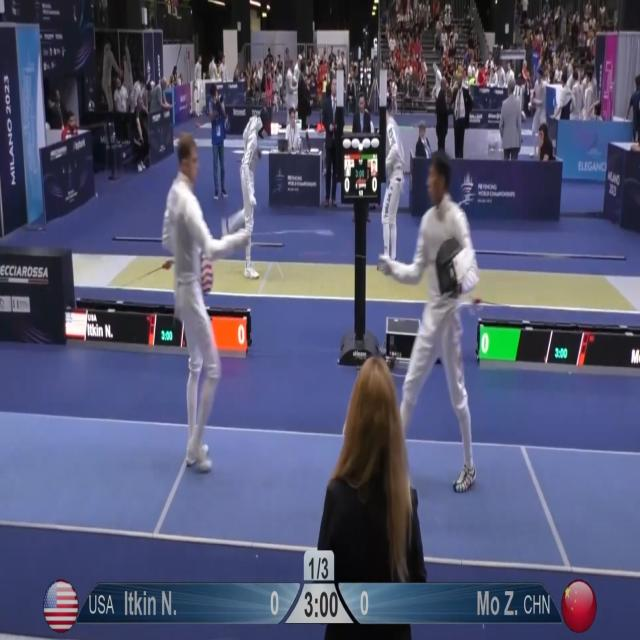fencer: (414, 154, 476, 509), (163, 139, 225, 481)
overlayLeft: (78, 580, 257, 625)
overlayRight: (388, 581, 563, 624)
scoreLeft: (260, 580, 304, 623)
scoreRight: (339, 582, 387, 624)
